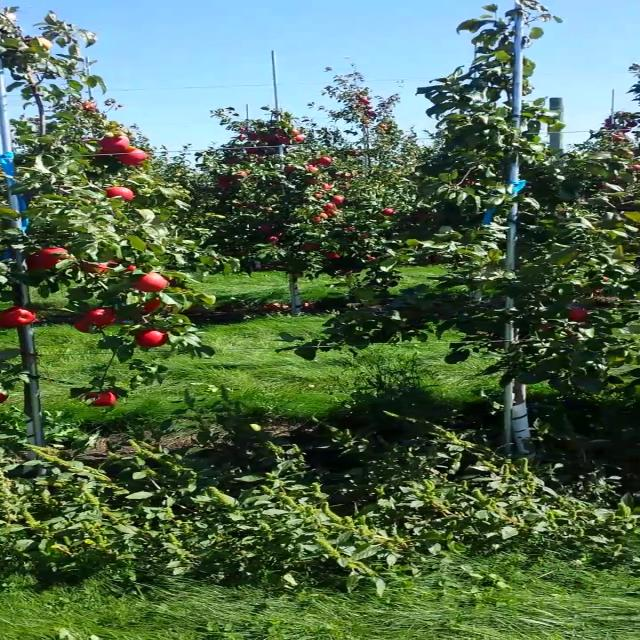apple: (132, 272, 170, 292), (0, 306, 36, 326), (113, 145, 147, 164), (36, 248, 68, 268), (82, 308, 115, 326), (134, 329, 166, 347), (100, 134, 130, 152), (81, 391, 115, 406), (86, 149, 115, 165), (102, 187, 134, 201), (532, 320, 564, 332), (74, 320, 105, 332), (28, 36, 51, 52), (78, 261, 108, 273), (562, 306, 586, 321), (0, 310, 20, 327), (142, 297, 159, 313), (28, 255, 42, 269), (126, 264, 137, 272), (0, 392, 7, 404)
